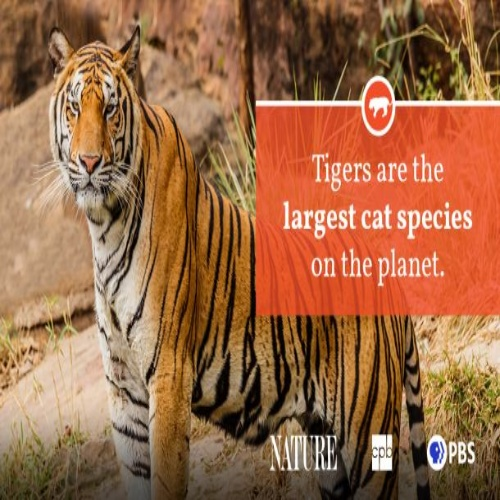tiger: (32, 19, 257, 488)
